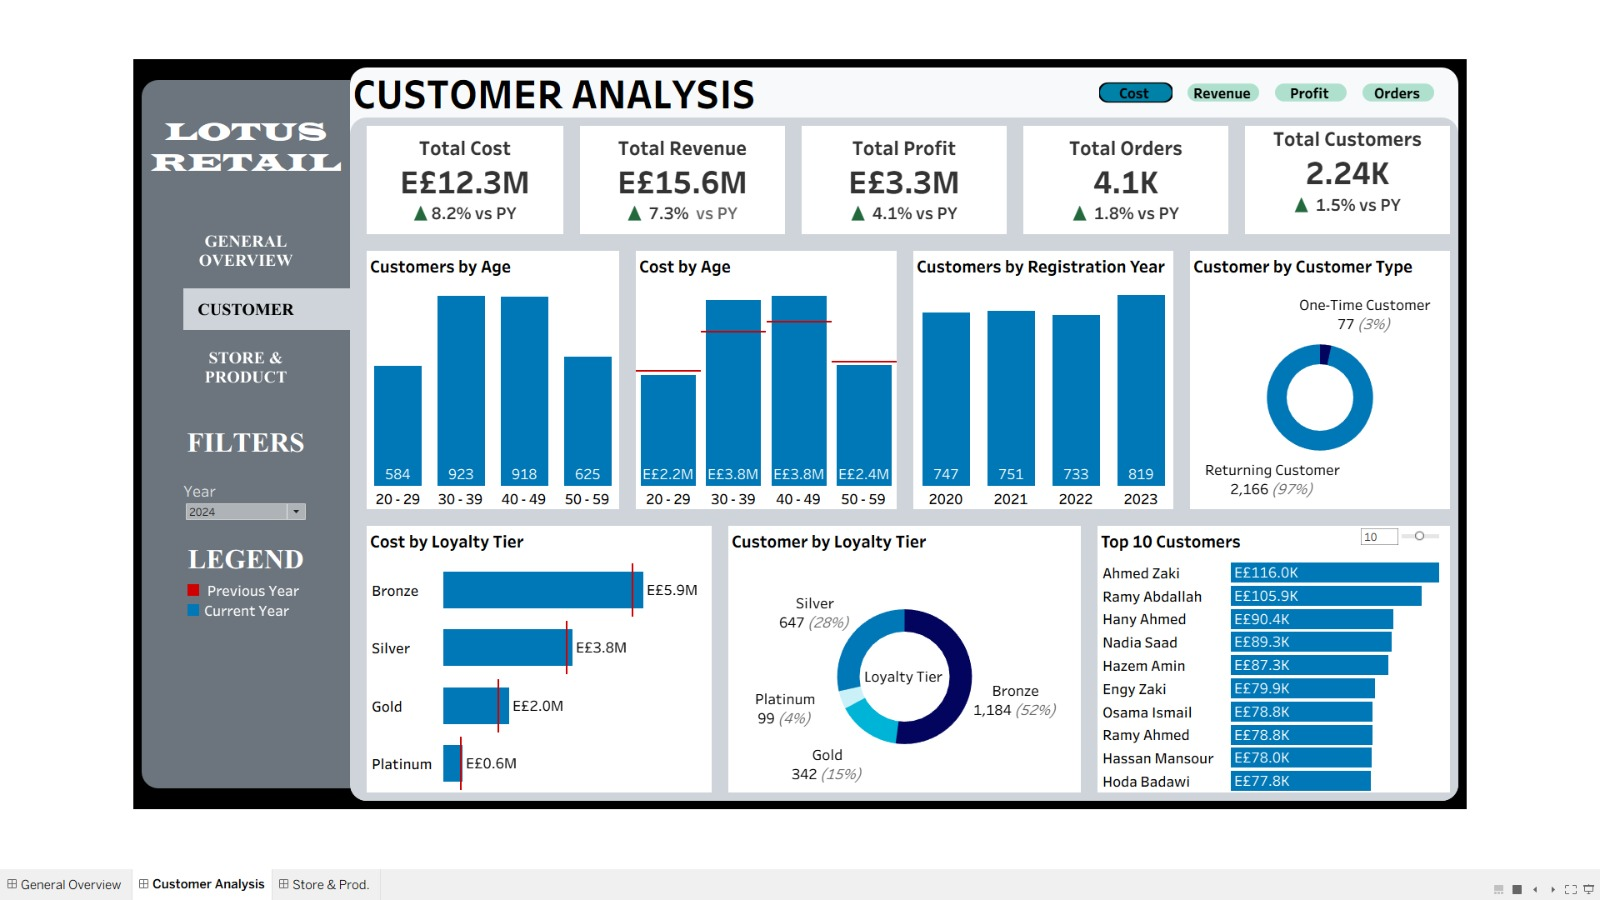

The dashboard page shown, as its layout file describes it:
{"tool":"tableau","page":{"name":"Customer Analysis","canvas":[1600,900],"ordinal":0},"visuals":[{"type":"text","box":[260,10,890,60]},{"type":"worksheet","title":"Buttons","mark":"Shape","cols":["Calculation_0874970443321350","Calculation_0874970443321350","Calculation_0874970443321350","Calculation_0874970443321350"],"box":[1150,10,420,60]},{"type":"blank","box":[10,25,250,10]},{"type":"text","box":[10,35,250,140]},{"type":"worksheet","title":"Cost","mark":"Automatic","box":[280,80,236,130]},{"type":"worksheet","title":"Rev.","mark":"Automatic","box":[536,80,246,130]},{"type":"worksheet","title":"Profit","mark":"Automatic","box":[802,80,246,130]},{"type":"worksheet","title":"Orders","mark":"Automatic","box":[1068,80,246,130]},{"type":"worksheet","title":"Total Customers","mark":"Automatic","box":[1334,80,246,130]},{"type":"blank","box":[10,175,250,30]},{"type":"dashboard-object","box":[60,205,150,50]},{"type":"worksheet","title":"Cus by Age","mark":"Automatic","rows":["customer_id"],"cols":["Age (bin)"],"box":[280,230,303,310]},{"type":"worksheet","title":"Age","mark":"Automatic","rows":["Calculation_0373592491970560","Calculation_0373592493252610"],"cols":["Age (bin)"],"box":[603,230,313,310]},{"type":"worksheet","title":"Customer Join Date","mark":"Bar","rows":["customer_id"],"cols":["registration_date"],"box":[936,230,312,310]},{"type":"worksheet","title":"Customer Type","mark":"Pie","cols":["Calculation_1225439418195977","Calculation_1225439418195977"],"box":[1268,230,312,310]},{"type":"blank","box":[10,255,250,20]},{"type":"dashboard-object","box":[60,275,200,50]},{"type":"blank","box":[10,325,250,20]},{"type":"dashboard-object","box":[60,345,150,50]},{"type":"blank","box":[10,395,250,50]},{"type":"text","box":[10,445,250,30]},{"type":"blank","box":[10,475,250,30]},{"type":"parameter","param":"[Parameters].[Parameter 1297182227197959]","box":[60,505,150,50]},{"type":"blank","box":[10,555,250,30]},{"type":"worksheet","title":"Loyalty Tier","mark":"Automatic","rows":["loyalty_tier"],"cols":["Calculation_0373592491970560","Calculation_0373592493252610"],"box":[280,560,414,320]},{"type":"worksheet","title":"Loyalty Tier by Cus.","mark":"Pie","rows":["Calculation_1225439412301825","Calculation_1225439412301825"],"box":[714,560,423,320]},{"type":"worksheet","title":"Top Customers","mark":"Automatic","rows":["full_name"],"cols":["Calculation_1297182227521545"],"box":[1157,560,423,320]},{"type":"parameter","param":"[Parameters].[Parameter 1225439415734277]","box":[1470,560,100,35]},{"type":"text","box":[10,585,250,30]},{"type":"blank","box":[10,615,250,10]},{"type":"legend","title":"Loyalty Tier","param":"[federated.0mt75gr1jol0vg19zrq0202gwl9p].[:Measure Names]","box":[60,625,150,50]}]}

Visuals, with their boxes on the page's 1600x900 design canvas (x1, y1, x2, y2). These are canvas units, not pixel positions in the 1600x900 screenshot, which may show the page scaled, cropped or inside an application window:
text: region(260, 10, 1150, 70)
"Buttons" worksheet (Shape marks): region(1150, 10, 1570, 70)
blank: region(10, 25, 260, 35)
text: region(10, 35, 260, 175)
"Cost" worksheet: region(280, 80, 516, 210)
"Rev." worksheet: region(536, 80, 782, 210)
"Profit" worksheet: region(802, 80, 1048, 210)
"Orders" worksheet: region(1068, 80, 1314, 210)
"Total Customers" worksheet: region(1334, 80, 1580, 210)
blank: region(10, 175, 260, 205)
dashboard-object: region(60, 205, 210, 255)
"Cus by Age" worksheet: region(280, 230, 583, 540)
"Age" worksheet: region(603, 230, 916, 540)
"Customer Join Date" worksheet (Bar marks): region(936, 230, 1248, 540)
"Customer Type" worksheet (Pie marks): region(1268, 230, 1580, 540)
blank: region(10, 255, 260, 275)
dashboard-object: region(60, 275, 260, 325)
blank: region(10, 325, 260, 345)
dashboard-object: region(60, 345, 210, 395)
blank: region(10, 395, 260, 445)
text: region(10, 445, 260, 475)
blank: region(10, 475, 260, 505)
parameter: region(60, 505, 210, 555)
blank: region(10, 555, 260, 585)
"Loyalty Tier" worksheet: region(280, 560, 694, 880)
"Loyalty Tier by Cus." worksheet (Pie marks): region(714, 560, 1137, 880)
"Top Customers" worksheet: region(1157, 560, 1580, 880)
parameter: region(1470, 560, 1570, 595)
text: region(10, 585, 260, 615)
blank: region(10, 615, 260, 625)
"Loyalty Tier" legend: region(60, 625, 210, 675)
